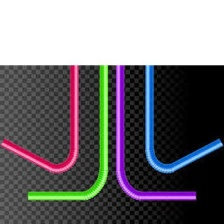drinking_straw: (109, 63, 199, 208), (25, 61, 112, 207), (138, 64, 224, 180), (0, 65, 83, 179)
